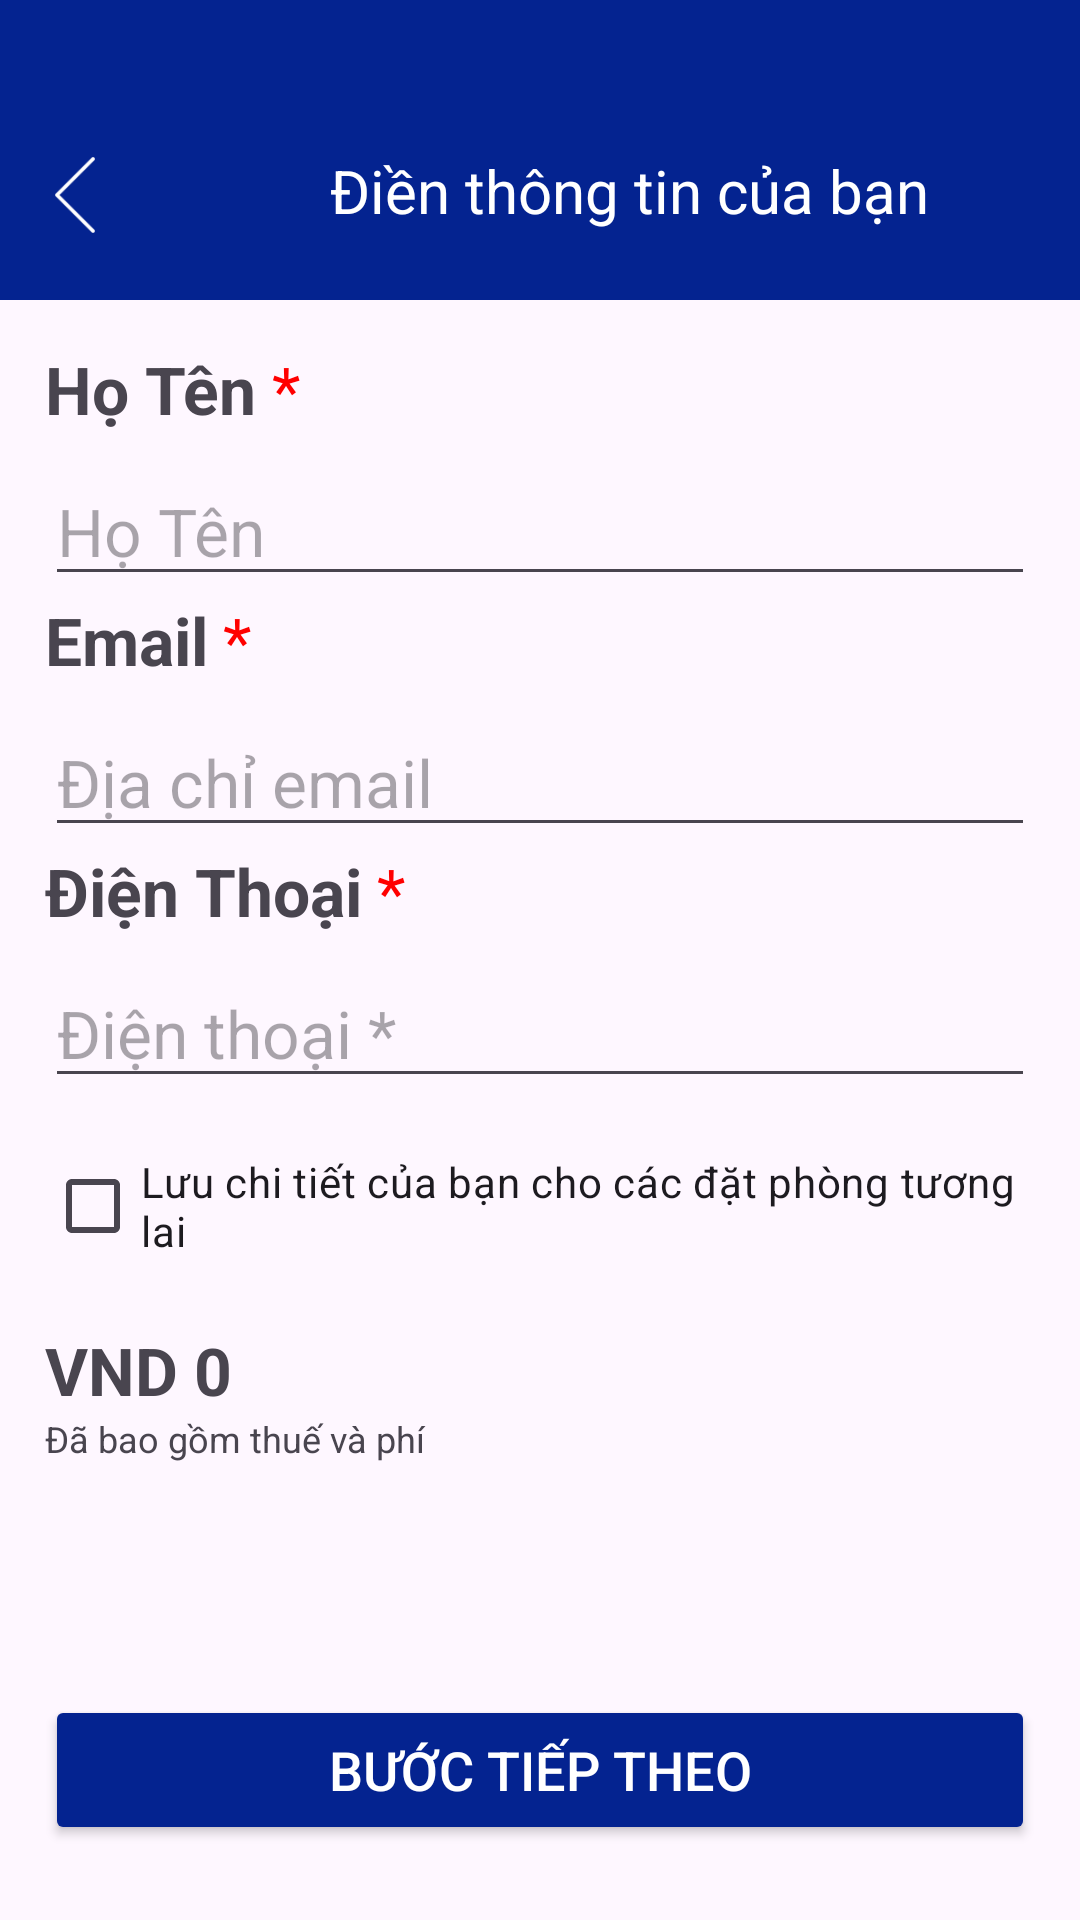

Point at icon controls on the screen. Image size 1080×1920, points as point (x, y).
back: point (75, 195)
